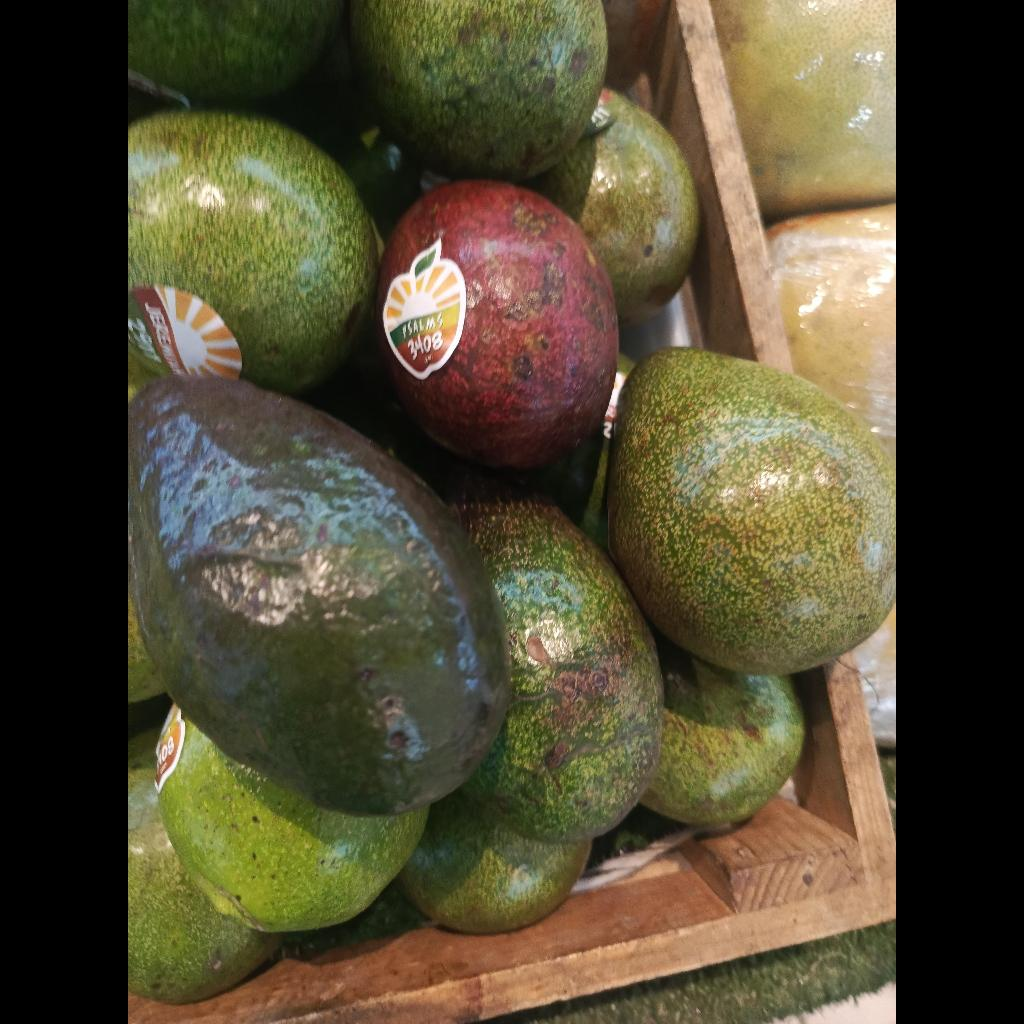anthracnose: (376, 180, 618, 469)
